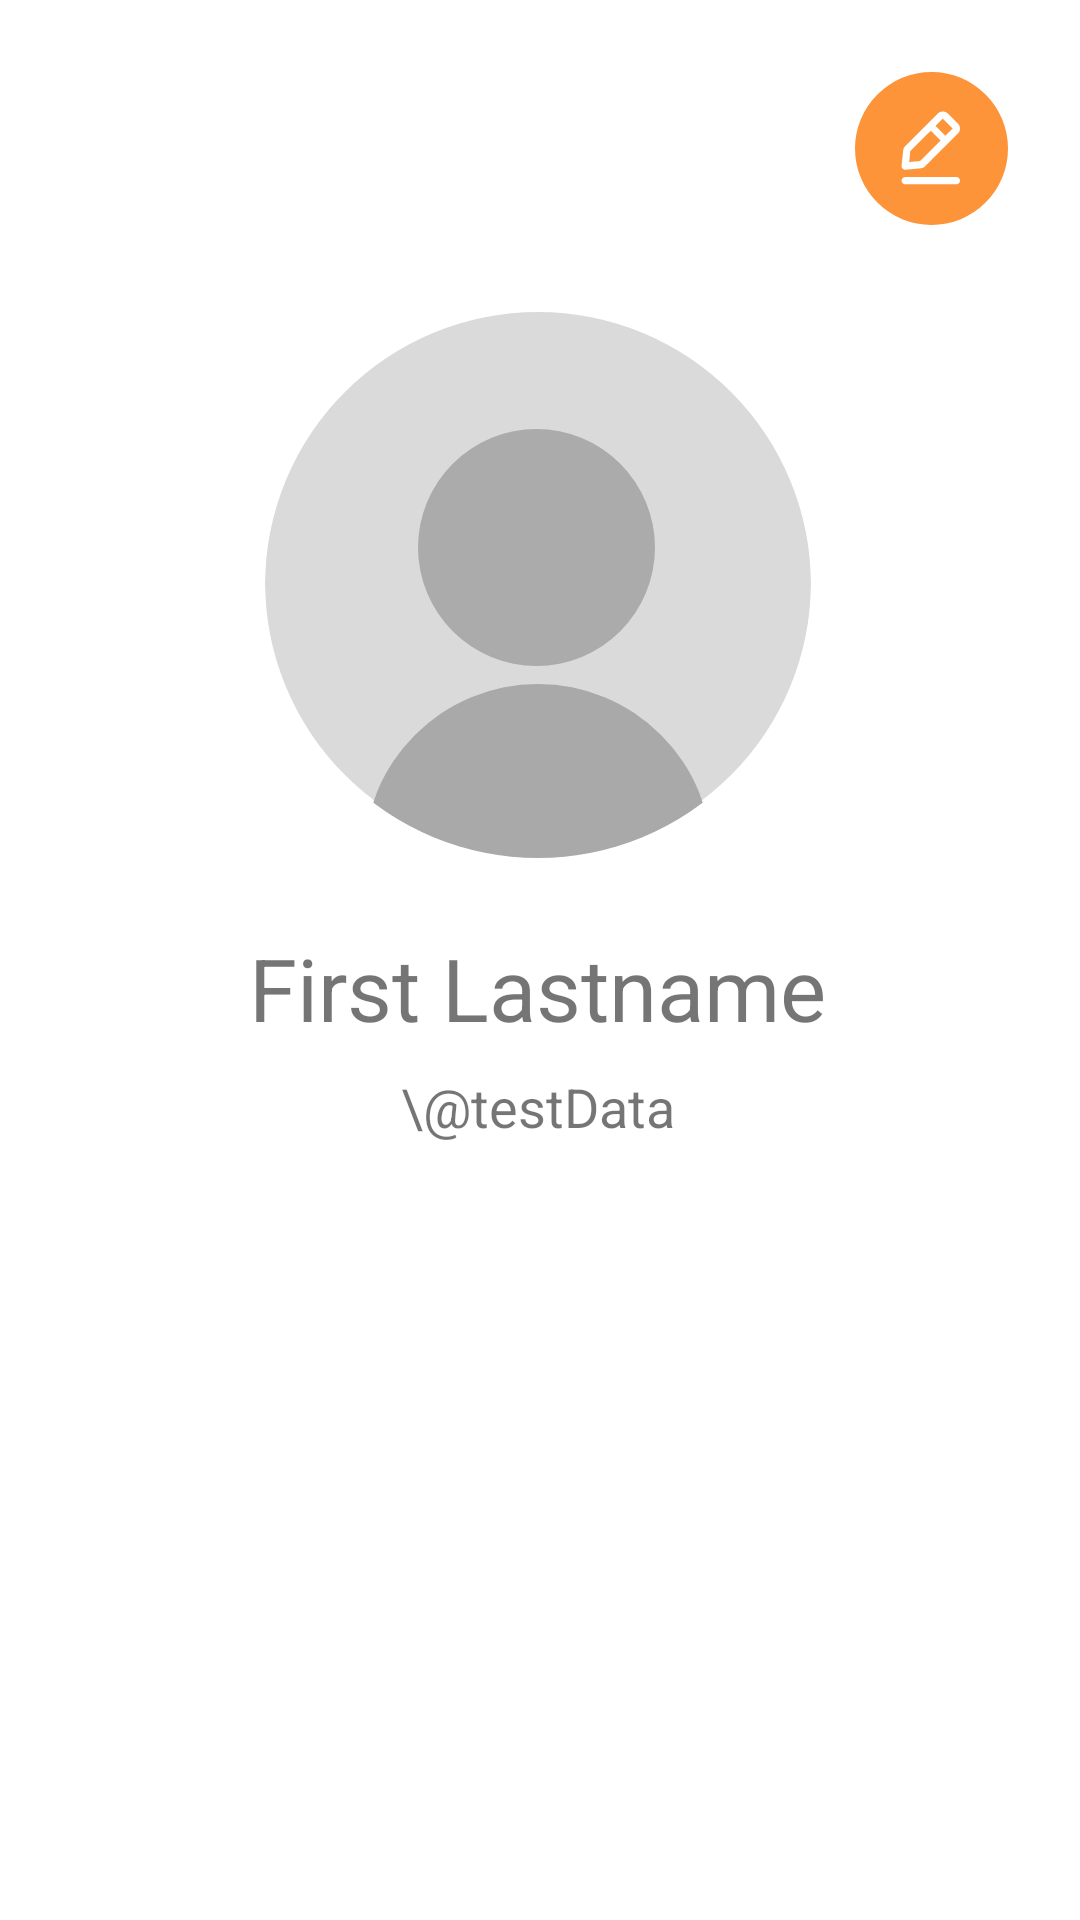

Where to tap for icons on this 1080 × 1920 app screen, as (x=x, y=y):
edit: (x=931, y=148)
